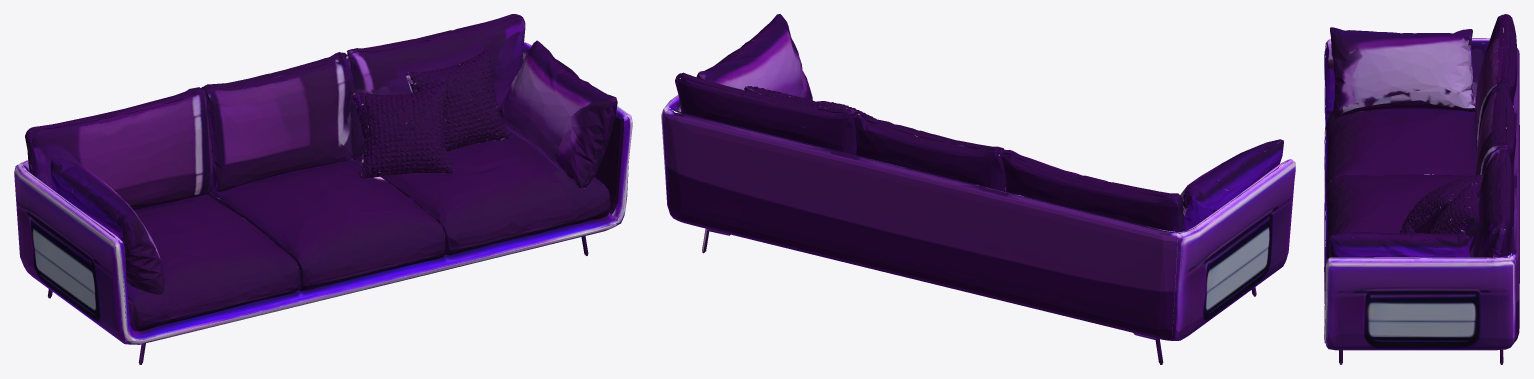
Rendered from edited_mesh.glb.
3 views of the same model, side by side, from view 1: azimuth 30°, elevation 25°; view 2: azimuth 150°, elevation 25°; view 3: azimuth 270°, elevation 25° (orthographic). The views are drawn at different scales.
Parts seen in each view (by area): view 1: solid_001_wire; view 2: solid_001_wire; view 3: solid_001_wire.
Boxes of the visible parts, x1,y1,x2,y2 form: solid_001_wire: (14, 14, 632, 364); solid_001_wire: (661, 14, 1295, 364); solid_001_wire: (1324, 14, 1519, 364).
Bounding box in the file's own units: 2 × 0.6387 × 0.7369.
Materials: 1 (1 with a texture image).
